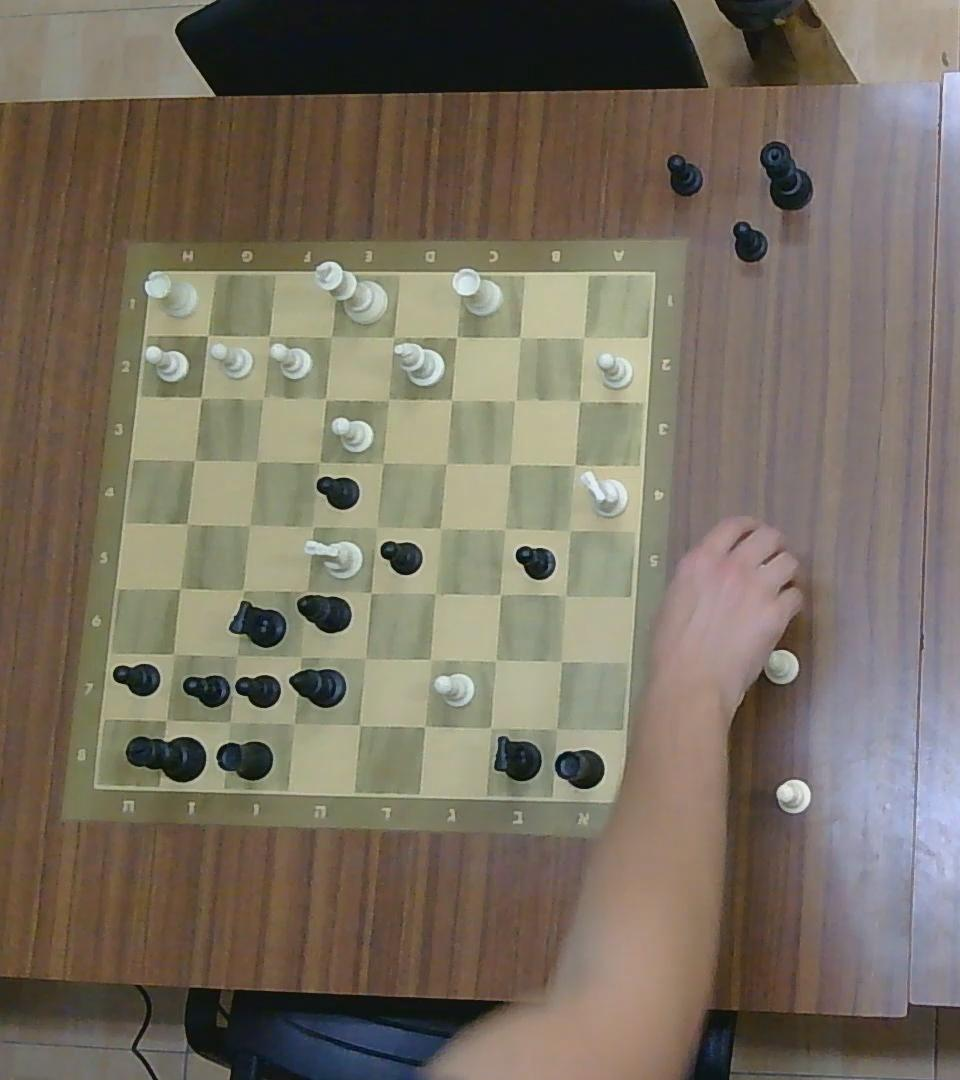xcorner: (327, 329, 346, 347), (202, 322, 218, 341), (290, 649, 311, 663), (560, 520, 578, 536), (422, 650, 440, 666), (350, 718, 368, 734), (493, 588, 510, 604), (172, 579, 187, 597), (416, 719, 434, 734), (363, 584, 379, 600), (557, 588, 573, 604), (158, 710, 174, 726), (358, 651, 374, 667), (548, 720, 564, 736), (380, 392, 397, 406), (250, 456, 267, 470), (566, 458, 583, 472), (554, 656, 571, 670), (181, 519, 200, 531), (445, 393, 460, 408), (376, 456, 391, 471), (318, 392, 334, 406), (258, 390, 272, 406), (224, 714, 238, 730), (370, 522, 387, 535), (236, 584, 253, 597), (429, 584, 442, 601), (306, 521, 324, 533), (481, 723, 499, 735), (301, 584, 315, 599), (189, 452, 202, 468), (262, 332, 279, 344), (440, 458, 455, 471), (243, 519, 258, 532), (288, 716, 301, 731), (169, 648, 186, 659), (504, 459, 518, 472), (231, 648, 244, 662), (433, 524, 448, 536), (491, 655, 506, 667), (508, 394, 522, 406), (450, 333, 465, 344), (577, 330, 590, 342), (195, 392, 208, 404), (386, 334, 403, 343), (502, 522, 514, 534), (314, 456, 325, 469), (514, 334, 528, 342), (575, 394, 584, 404)
